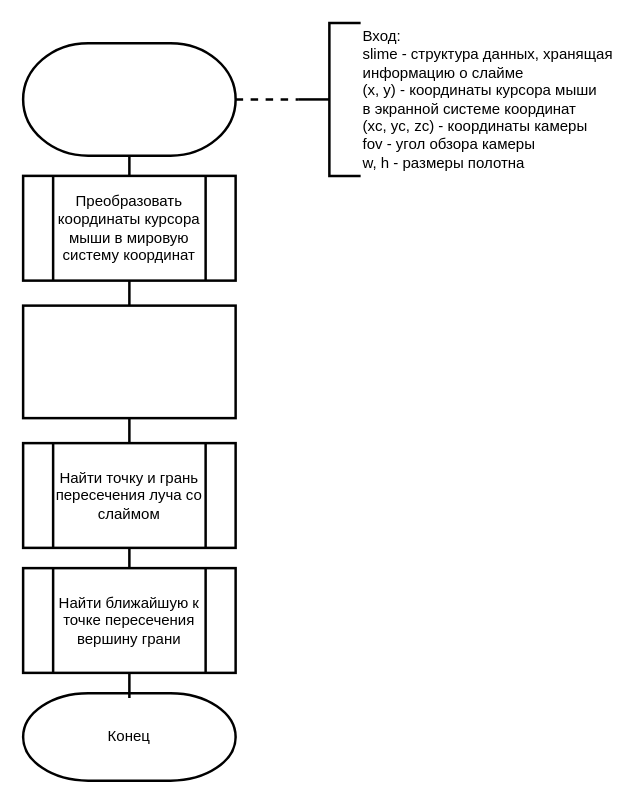
This 634x804 diagram has some shape labels left out. The shapes that lost their labels are listed below. From the top down, each one's centre as x and y in pixels, then its label:
At pixel 128 98: "Начало".
At pixel 128 361: "Инициализировать луч, выпущенный из точки камеры через пиксель экрана".
